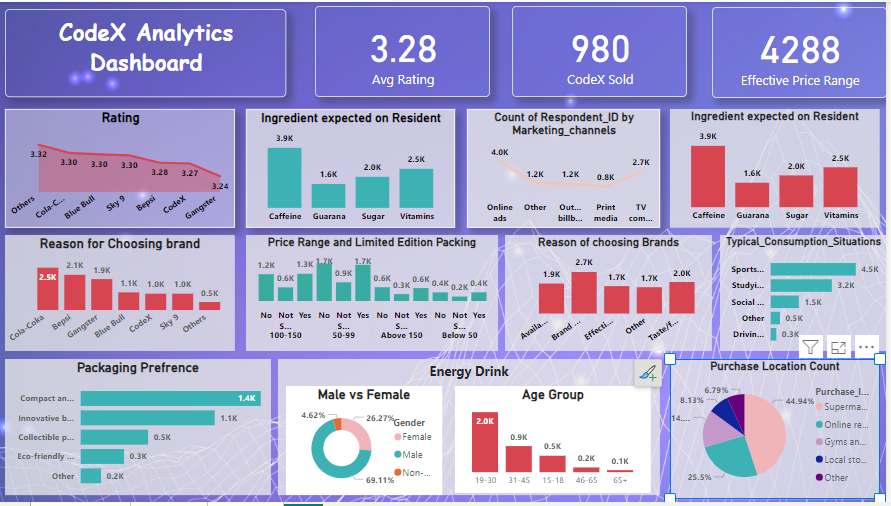

What the dashboard file says about the page in this screenshot:
{"tool":"powerbi","page":{"name":"Dashboard","canvas":[1280,720],"ordinal":0},"visuals":[{"type":"textbox","box":[10.1,10.1,404.6,126.7],"z":0},{"type":"card","fields":{"Values":["fact_survey_responses.Avg Rating"]},"box":[456.5,5.8,252,131],"z":1},{"type":"card","fields":{"Values":["fact_survey_responses.CodeX Sold"]},"box":[740.2,5.8,252,131],"z":2},{"type":"card","fields":{"Values":["fact_survey_responses.Effective Price Range"]},"box":[1028.2,7.2,252,131],"z":3},{"type":"stackedAreaChart","title":"Rating","fields":{"Category":["fact_survey_responses.Current_brands"],"Y":["Avg(fact_survey_responses.Taste_experience)"]},"box":[10.1,154.1,331.2,171.4],"z":4},{"type":"clusteredColumnChart","title":"Ingredient expected on Resident","fields":{"Category":["fact_survey_responses.Ingredients_expected"],"Y":["CountNonNull(dim_repondents.Respondent_ID)"]},"box":[357.1,154.1,301,171.4],"z":5},{"type":"lineChart","fields":{"Category":["fact_survey_responses.Marketing_channels"],"Y":["CountNonNull(dim_repondents.Respondent_ID)"]},"box":[675.4,154.1,277.9,171.4],"z":6},{"type":"clusteredColumnChart","title":"Ingredient expected on Resident","fields":{"Category":["fact_survey_responses.Ingredients_expected"],"Y":["CountNonNull(dim_repondents.Respondent_ID)"]},"box":[967.7,154.1,302.4,171.4],"z":7},{"type":"columnChart","title":"Reason for Choosing brand","fields":{"Category":["fact_survey_responses.Current_brands"],"Y":["CountNonNull(fact_survey_responses.Reasons_for_choosing_brands)"]},"box":[10.1,335.5,331.2,167],"z":8},{"type":"barChart","title":"Packaging Prefrence","fields":{"Category":["fact_survey_responses.Packaging_preference"],"Y":["CountNonNull(fact_survey_responses.Packaging_preference)"]},"box":[10.1,514.1,383,195.8],"z":9},{"type":"textbox","box":[403.2,514.1,550.1,195.8],"z":10},{"type":"donutChart","title":"Male vs Female ","fields":{"Category":["fact_survey_responses.Gender"],"Y":["CountNonNull(fact_survey_responses.Gender)"]},"box":[414.7,553,224.6,157],"z":11},{"type":"columnChart","title":"Age Group","fields":{"Category":["dim_repondents.Age"],"Y":["CountNonNull(dim_repondents.Age)"]},"box":[658.1,553,282.2,154.1],"z":12},{"type":"columnChart","title":"Price Range and Limited Edition Packing","fields":{"Category":["fact_survey_responses.Price_range","fact_survey_responses.Limited_edition_packaging"],"Y":["CountNonNull(dim_repondents.Respondent_ID)"]},"box":[357.1,335.5,362.9,167],"z":13},{"type":"clusteredColumnChart","title":"Reason of choosing Brands","fields":{"Category":["fact_survey_responses.Reasons_for_choosing_brands"],"Y":["CountNonNull(dim_repondents.Respondent_ID)"]},"box":[730.1,335.5,298.1,167],"z":14},{"type":"clusteredBarChart","title":"Typical_Consumption_Situations","fields":{"Category":["fact_survey_responses.Typical_consumption_situations"],"Y":["CountNonNull(dim_repondents.Respondent_ID)"]},"box":[1039.7,335.5,240.5,167],"z":15},{"type":"pieChart","title":"Purchase Location Count","fields":{"Category":["fact_survey_responses.Purchase_location"],"Y":["CountNonNull(dim_repondents.Respondent_ID)"]},"box":[967.7,514.1,302.4,201.6],"z":16}]}

Visuals, with their boxes in screenshot pixels (x1, y1, x2, y2), scaled from the page's 1280x720 canvas onto the 891x506 screenshot:
textbox: [x1=7, y1=7, x2=289, y2=96]
card - fact_survey_responses.Avg Rating: [x1=318, y1=4, x2=493, y2=96]
card - fact_survey_responses.CodeX Sold: [x1=515, y1=4, x2=691, y2=96]
card - fact_survey_responses.Effective Price Range: [x1=716, y1=5, x2=890, y2=97]
"Rating" stackedAreaChart: [x1=7, y1=108, x2=238, y2=229]
"Ingredient expected on Resident" clusteredColumnChart: [x1=249, y1=108, x2=458, y2=229]
lineChart - fact_survey_responses.Marketing_channels x CountNonNull(dim_repondents.Respondent_ID): [x1=470, y1=108, x2=664, y2=229]
"Ingredient expected on Resident" clusteredColumnChart: [x1=674, y1=108, x2=884, y2=229]
"Reason for Choosing brand" columnChart: [x1=7, y1=236, x2=238, y2=353]
"Packaging Prefrence" barChart: [x1=7, y1=361, x2=274, y2=499]
textbox: [x1=281, y1=361, x2=664, y2=499]
"Male vs Female " donutChart: [x1=289, y1=389, x2=445, y2=499]
"Age Group" columnChart: [x1=458, y1=389, x2=655, y2=497]
"Price Range and Limited Edition Packing" columnChart: [x1=249, y1=236, x2=501, y2=353]
"Reason of choosing Brands" clusteredColumnChart: [x1=508, y1=236, x2=716, y2=353]
"Typical_Consumption_Situations" clusteredBarChart: [x1=724, y1=236, x2=890, y2=353]
"Purchase Location Count" pieChart: [x1=674, y1=361, x2=884, y2=503]
